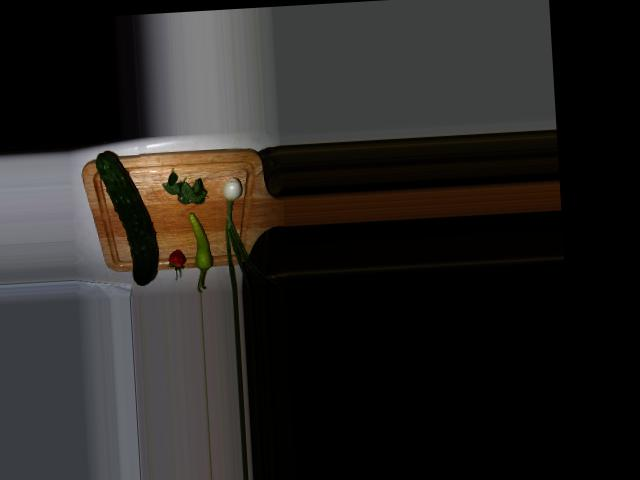cucumber: (94, 149, 158, 287)
